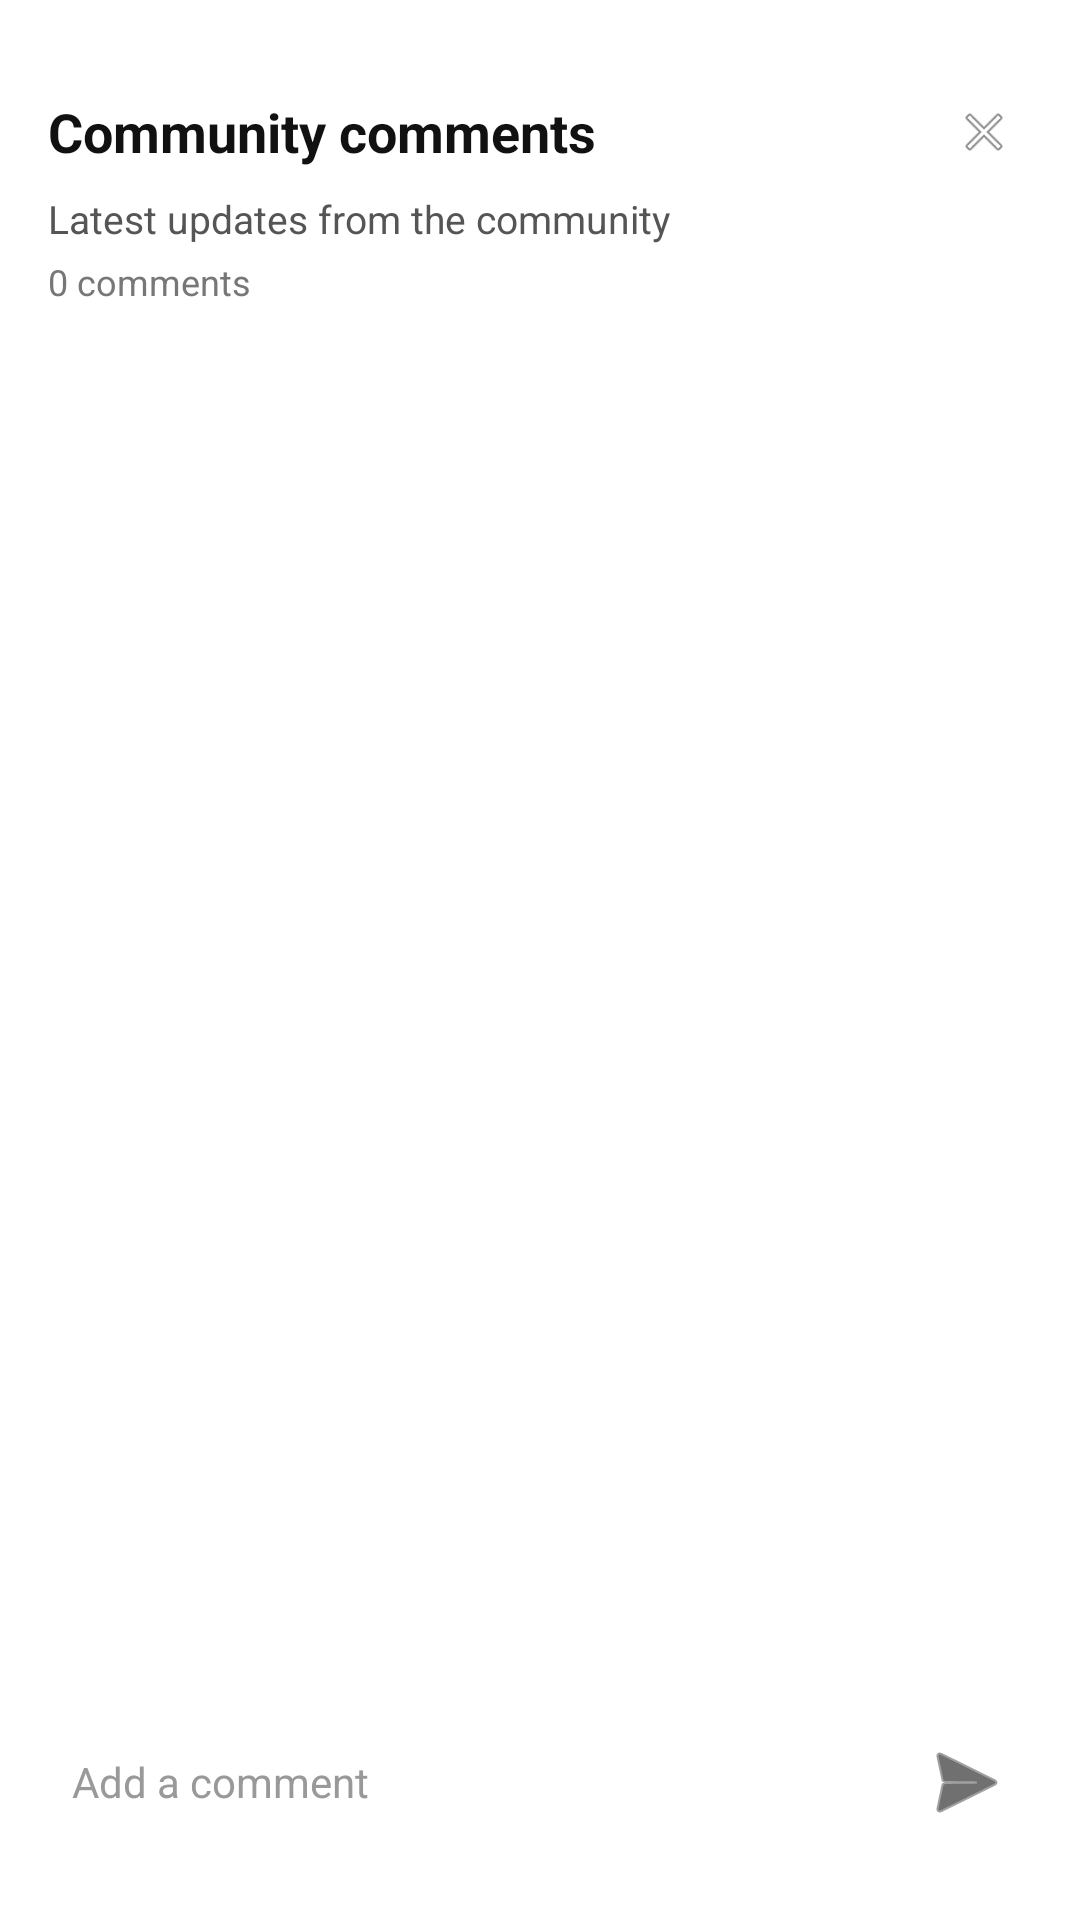

Icon bounding boxes for this 1080px x 1920px phone screenshot, format (x1, y1, x2, y2):
Close: (965, 113, 1003, 151)
Send: (936, 1752, 998, 1813)
